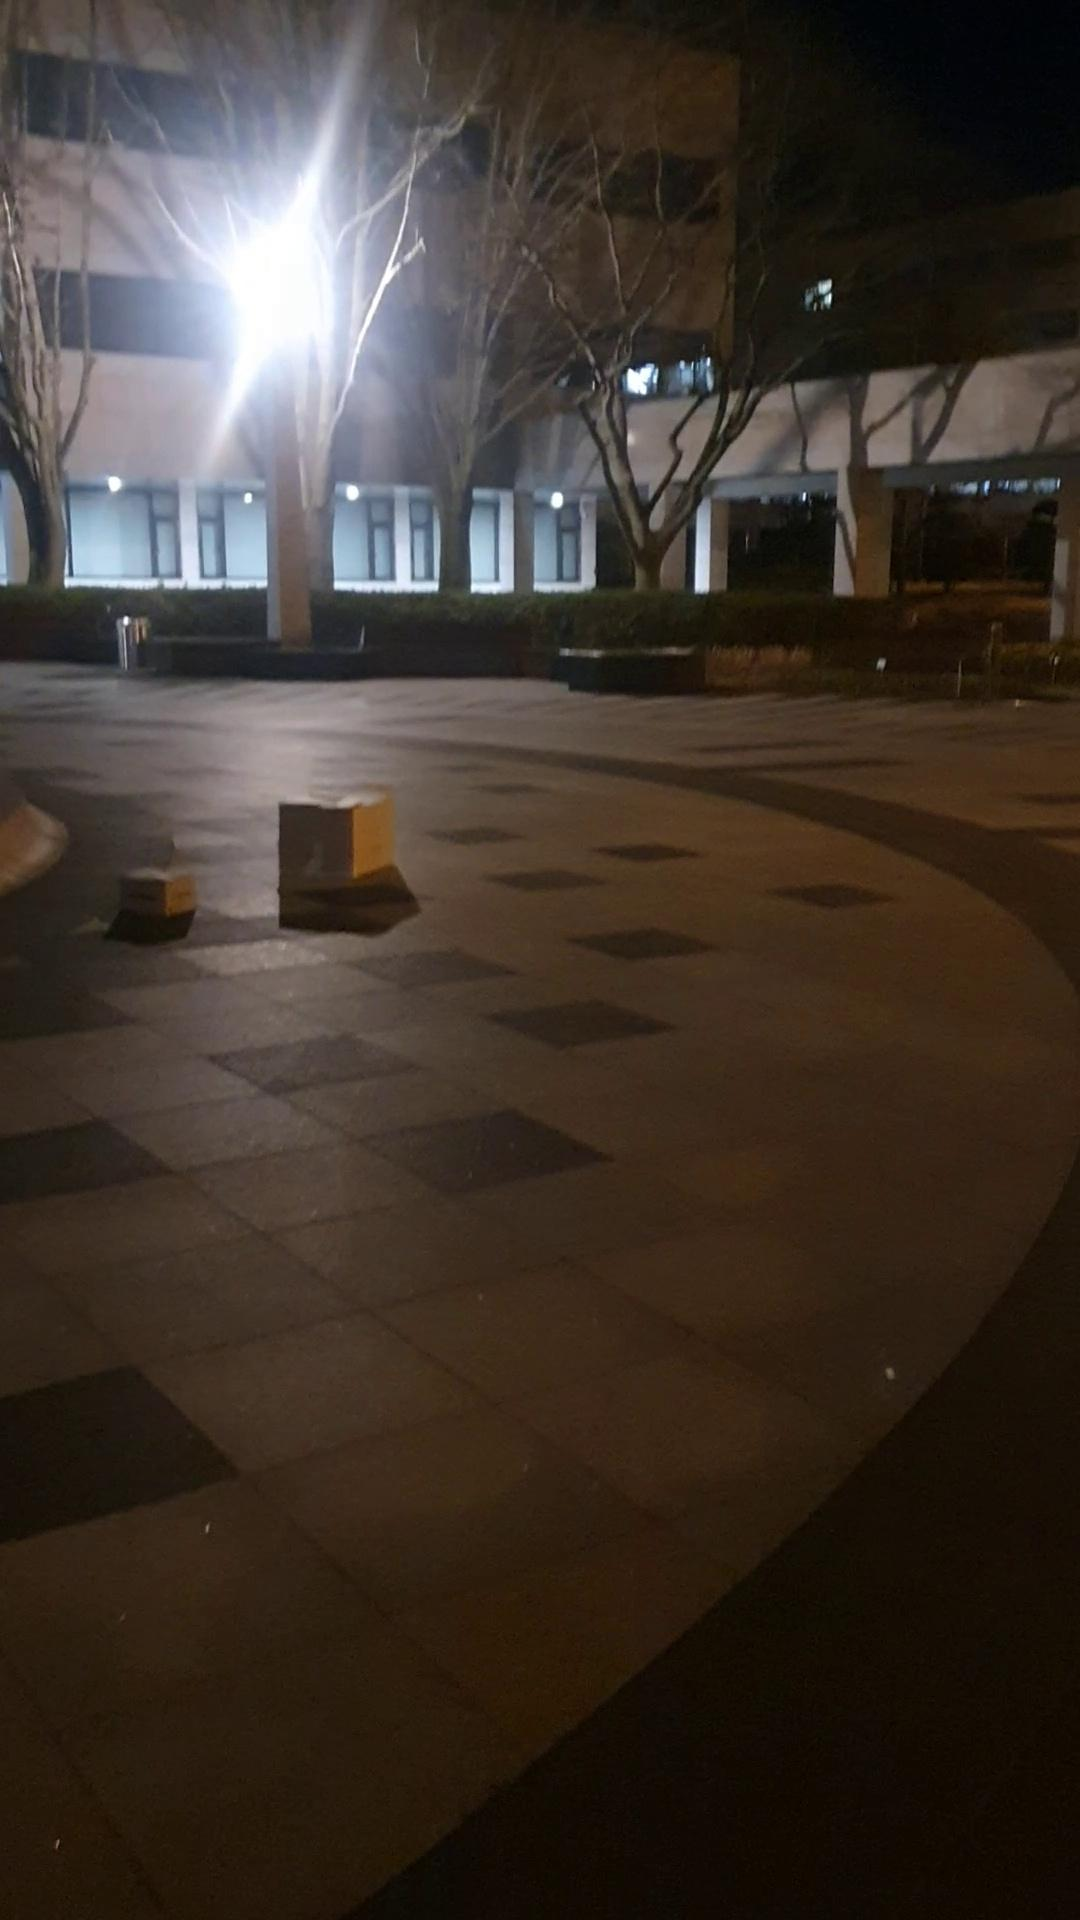Box: (273, 783, 392, 887), (117, 858, 202, 913)
